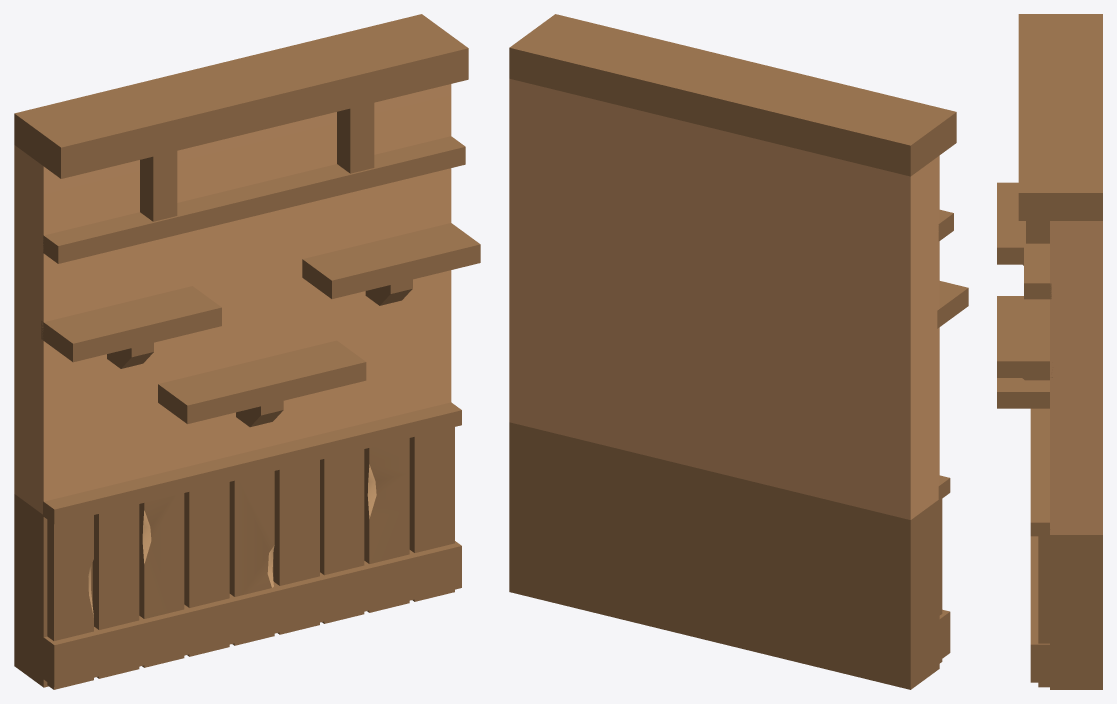
Rendered from quaternius-sushi-restaurant-wall-shelves.glb.
3 renders of one model, left to right at view 1: azimuth 30°, elevation 25°; view 2: azimuth 150°, elevation 25°; view 3: azimuth 270°, elevation 25°, orthographic. The views are drawn at different scales.
Visible parts, largest first — view 1: Wall_Shelves; view 2: Wall_Shelves; view 3: Wall_Shelves.
Boxes of the visible parts, box(x1,y1,x2,y2) form: Wall_Shelves: box(14, 14, 480, 689); Wall_Shelves: box(509, 14, 968, 689); Wall_Shelves: box(997, 14, 1102, 689).
Size of the model in its own units: 4 by 5.18 by 0.9993.
Materials: 1 (1 with a texture image).
